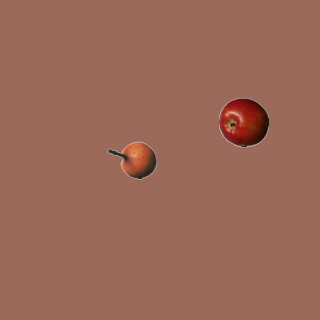Apple Braeburn: (218, 97, 268, 147)
Granadilla: (106, 135, 156, 185)
